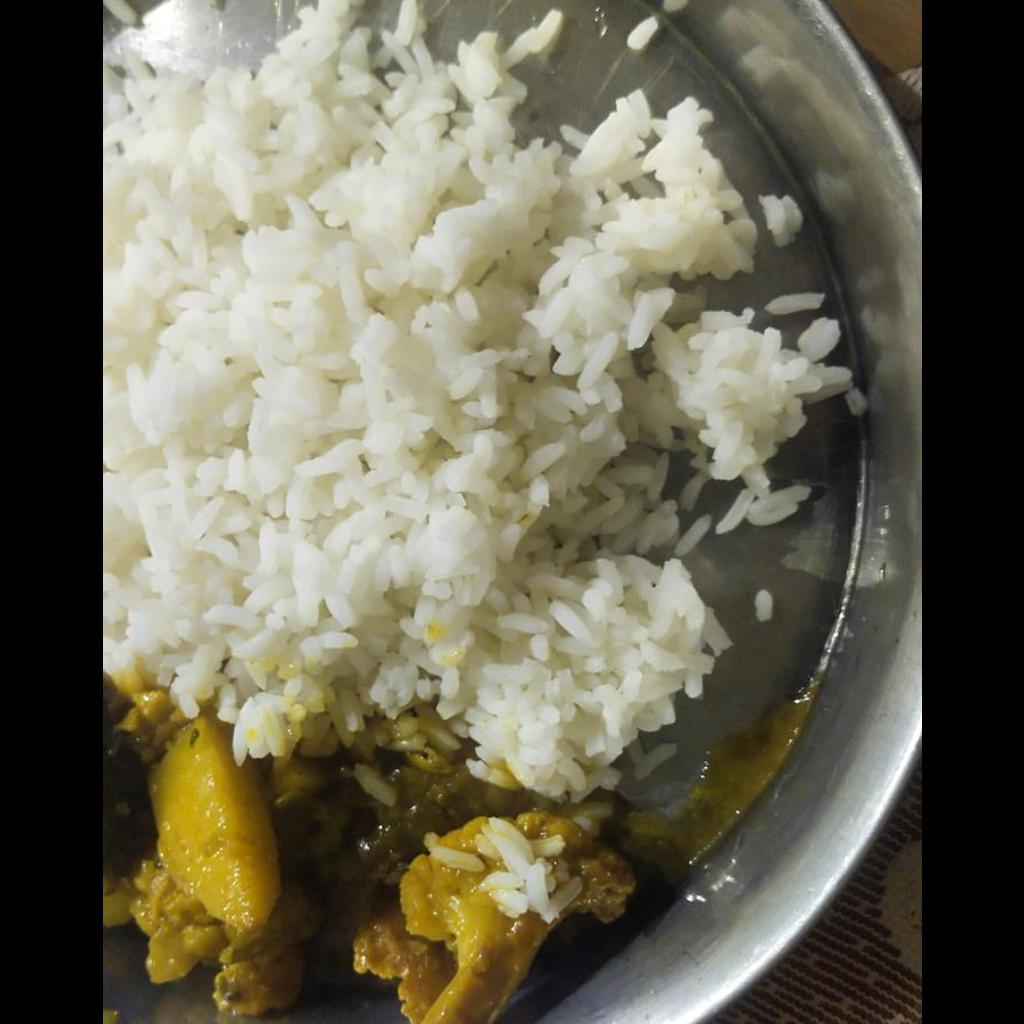rice: (102, 0, 868, 796)
vegetable: (102, 666, 634, 1023)
